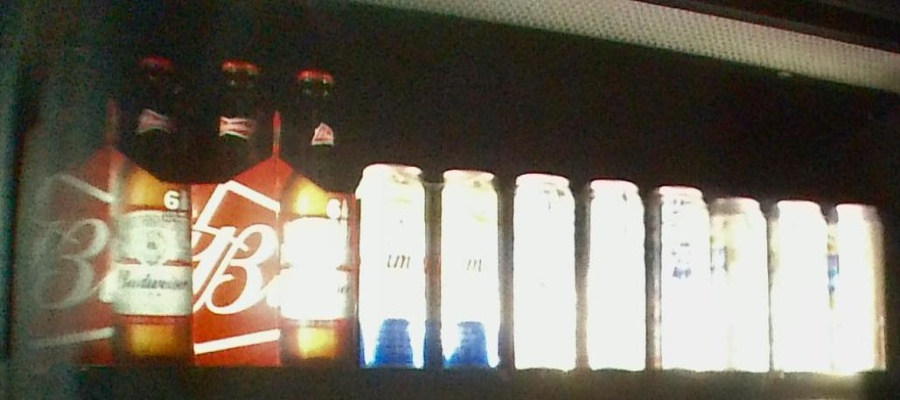bottle: (24, 37, 192, 365), (192, 52, 353, 369), (505, 170, 708, 369), (709, 192, 887, 381), (353, 159, 501, 368)
